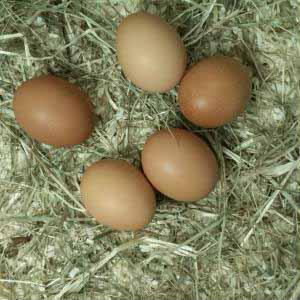egg: (140, 129, 221, 203), (116, 12, 187, 93), (80, 159, 156, 233), (14, 76, 92, 146), (177, 56, 252, 128)
